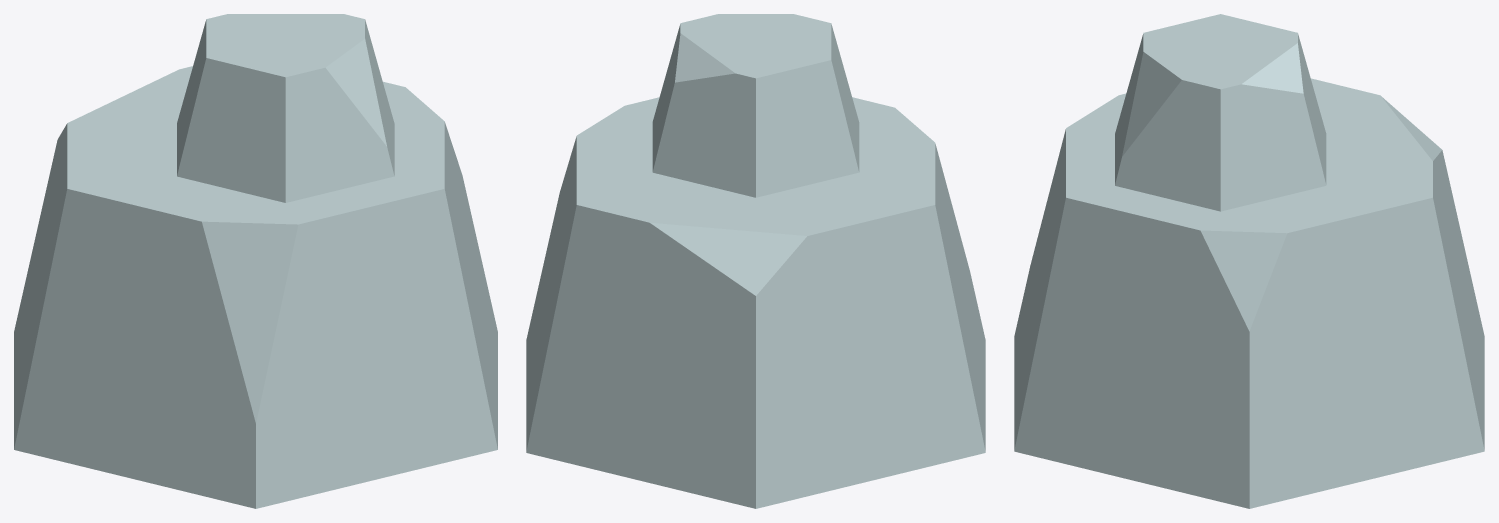
3 renders of one model, left to right at view 1: azimuth 30°, elevation 25°; view 2: azimuth 150°, elevation 25°; view 3: azimuth 270°, elevation 25°, orthographic. The views are drawn at different scales.
Visible parts, largest first — view 1: stone_smallE; view 2: stone_smallE; view 3: stone_smallE.
Part boxes in pixels (<box>): stone_smallE: <box>14,14,497,508</box>; stone_smallE: <box>526,14,985,508</box>; stone_smallE: <box>1014,14,1484,508</box>.
Bounding box in the file's own units: 0.3608 × 0.2562 × 0.3125.
